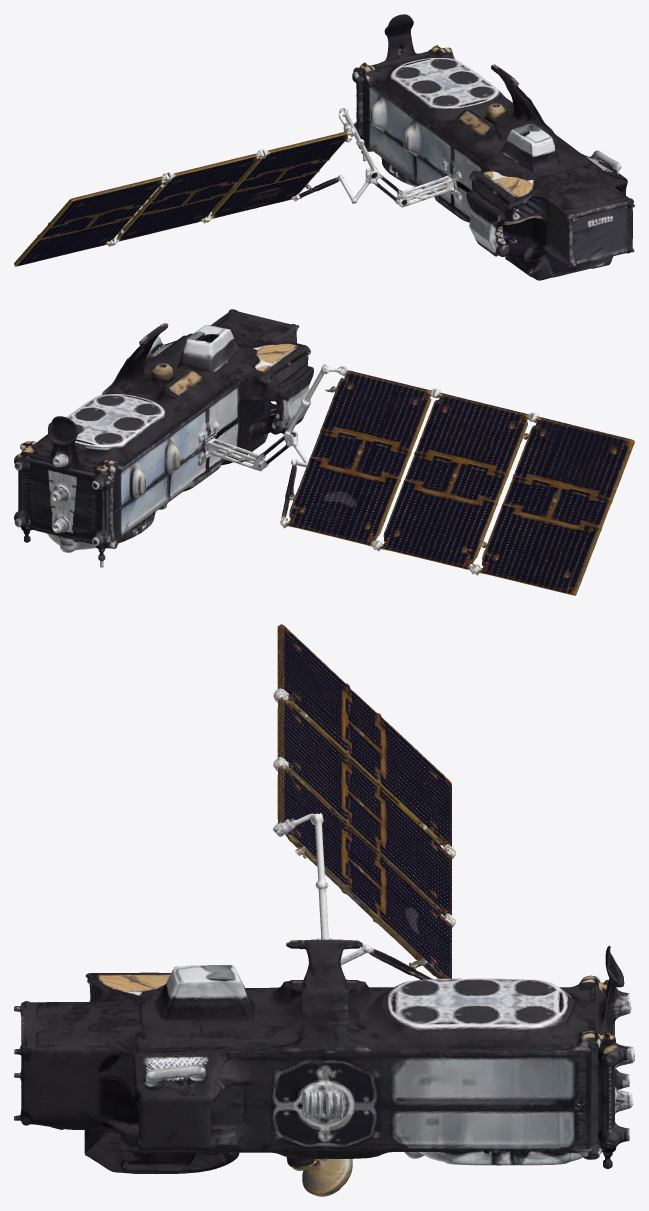
Rendered from sentinel3.glb.
The picture shows the model from 3 angles, top to bottom: view 1: azimuth 30°, elevation 25°; view 2: azimuth 150°, elevation 25°; view 3: azimuth 270°, elevation 25°; orthographic projection. The views are drawn at different scales.
Bounding box in the file's own units: 1.9 × 0.6164 × 1.35.
1 material, 1 textured.
